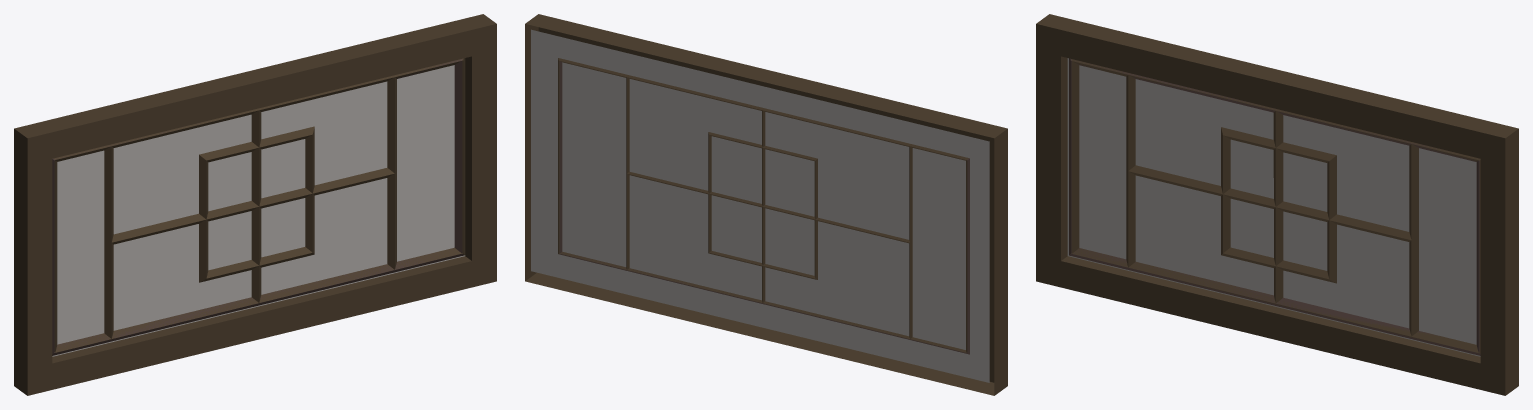
The model's file is SM_Env_Wall_20.fbx.
3 views of the same model, side by side, from view 1: azimuth 30°, elevation 25°; view 2: azimuth 150°, elevation 25°; view 3: azimuth 330°, elevation 25° (orthographic).
Parts seen in each view (by area): view 1: SM_Env_Wall_20; view 2: SM_Env_Wall_20; view 3: SM_Env_Wall_20.
Part boxes in pixels (x1=…): SM_Env_Wall_20: x1=14, y1=14, x2=496, y2=395; SM_Env_Wall_20: x1=525, y1=14, x2=1007, y2=395; SM_Env_Wall_20: x1=1036, y1=14, x2=1518, y2=395.
Size of the model in its own units: 131 by 68.85 by 6.51.
1 material, 1 textured.
